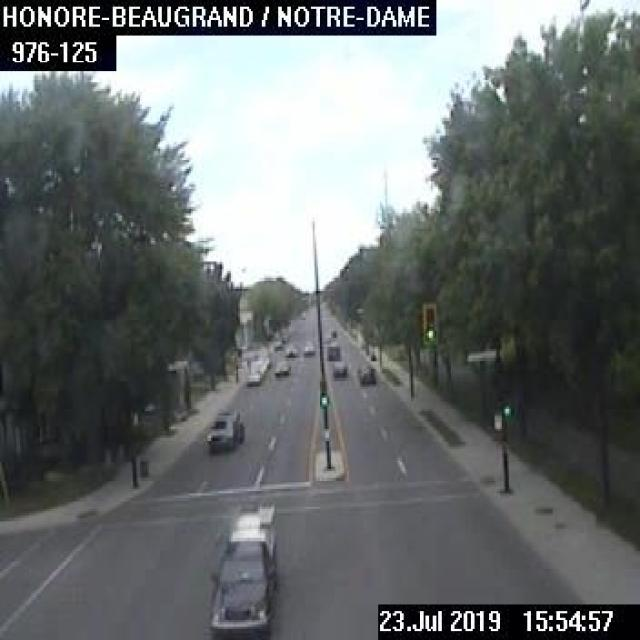vehicle: (207, 502, 278, 638), (204, 406, 243, 451), (354, 361, 375, 385), (331, 359, 346, 376), (272, 360, 288, 375), (244, 369, 260, 383), (283, 342, 297, 356), (302, 339, 314, 353)
